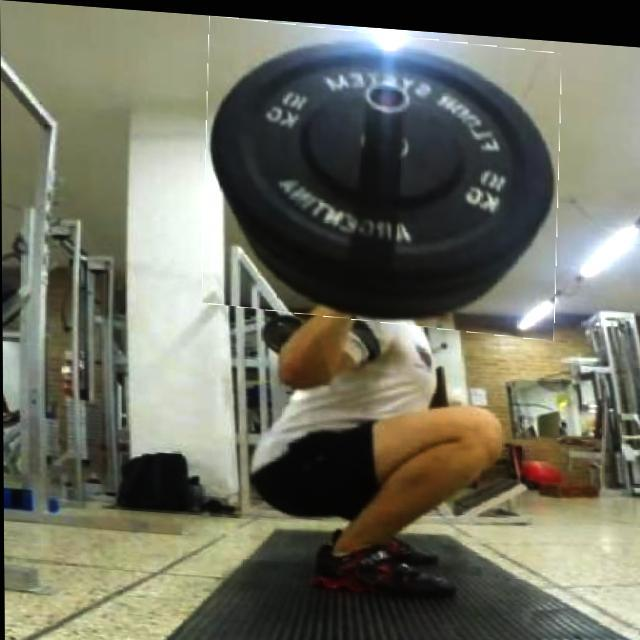barbell: (203, 16, 561, 330)
